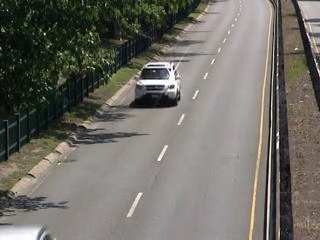car: (130, 59, 186, 109)
